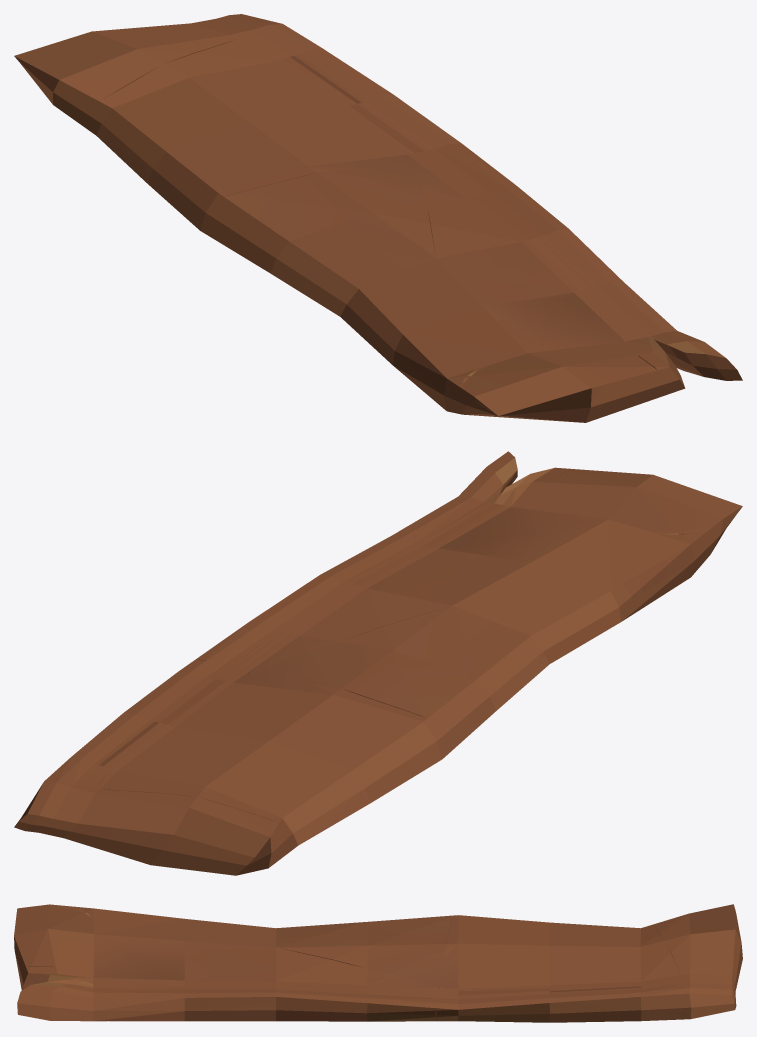
File: BrettZerbrechlich.fbx
3 views of the same model, one above another, from view 1: azimuth 30°, elevation 25°; view 2: azimuth 150°, elevation 25°; view 3: azimuth 270°, elevation 25° (orthographic). The views are drawn at different scales.
Parts seen in each view (by area): view 1: Cube.001_cell.002, Cube.001_cell.001, Cube.001_cell.005, Cube.001_cell.008, Cube.001_cell.007, Cube.001_cell.006, Cube.001_cell.009, Cube.001_cell.003, Cube.001_cell, Cube.001_cell.004; view 2: Cube.001_cell.002, Cube.001_cell.001, Cube.001_cell.005, Cube.001_cell.008, Cube.001_cell.006, Cube.001_cell.007, Cube.001_cell.009, Cube.001_cell.003, Cube.001_cell, Cube.001_cell.004; view 3: Cube.001_cell.002, Cube.001_cell.001, Cube.001_cell.008, Cube.001_cell.009, Cube.001_cell.007, Cube.001_cell.005, Cube.001_cell.006, Cube.001_cell.003, Cube.001_cell, Cube.001_cell.004.
Part boxes in pixels (box(x1,y1,x2,y2)): Cube.001_cell.002: box(14, 14, 474, 196); Cube.001_cell.001: box(224, 153, 658, 378); Cube.001_cell.005: box(143, 151, 435, 372); Cube.001_cell.008: box(404, 287, 741, 422); Cube.001_cell.007: box(96, 24, 428, 177); Cube.001_cell.006: box(14, 15, 269, 104); Cube.001_cell.009: box(417, 151, 622, 299); Cube.001_cell.003: box(465, 353, 656, 409); Cube.001_cell: box(408, 342, 588, 416); Cube.001_cell.004: box(626, 328, 742, 386); Cube.001_cell.002: box(14, 659, 434, 875); Cube.001_cell.001: box(196, 502, 642, 717); Cube.001_cell.005: box(227, 581, 633, 806); Cube.001_cell.008: box(399, 451, 742, 613); Cube.001_cell.006: box(19, 782, 278, 873); Cube.001_cell.007: box(44, 678, 363, 845); Cube.001_cell.009: box(196, 534, 484, 679); Cube.001_cell.003: box(552, 469, 736, 531); Cube.001_cell: box(597, 507, 741, 601); Cube.001_cell.004: box(461, 457, 569, 506); Cube.001_cell.002: box(436, 906, 742, 1022); Cube.001_cell.001: box(94, 915, 450, 1021); Cube.001_cell.008: box(14, 904, 184, 1021); Cube.001_cell.009: box(175, 948, 455, 1021); Cube.001_cell.007: box(458, 925, 691, 1022); Cube.001_cell.005: box(172, 915, 549, 991); Cube.001_cell.006: box(653, 904, 741, 1002); Cube.001_cell.003: box(14, 904, 93, 966); Cube.001_cell: box(73, 906, 152, 931); Cube.001_cell.004: box(17, 966, 107, 1021).
Size of the model in its own units: 65.26 by 13.75 by 209.
